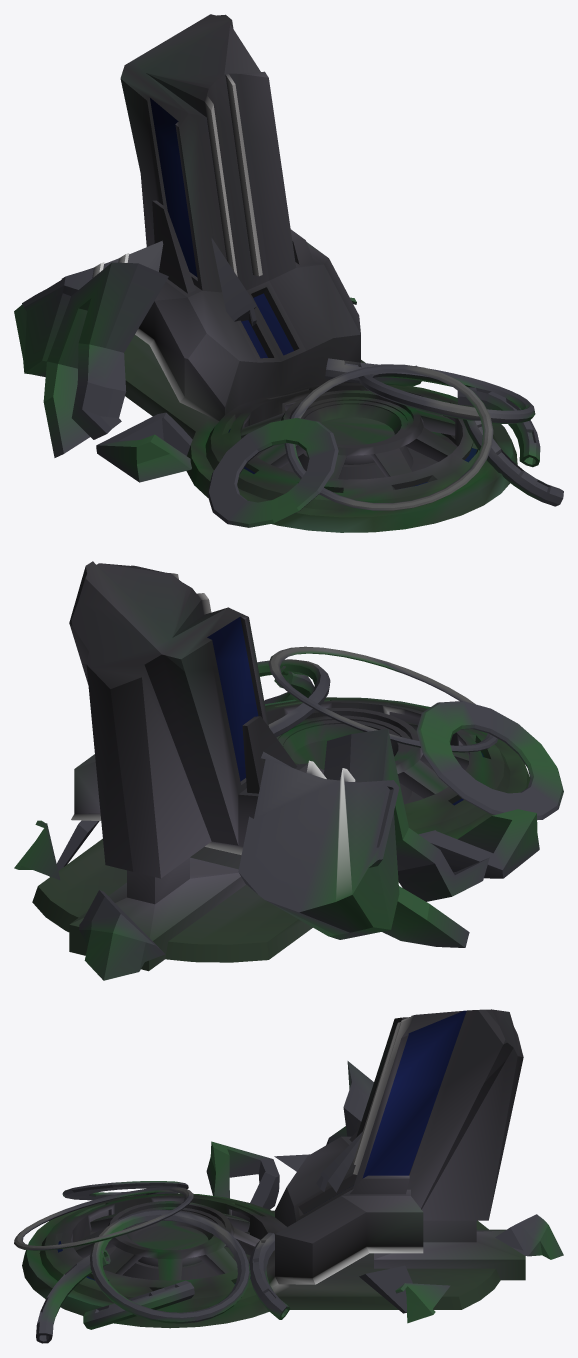
Rendered from Ruine2 (2).fbx.
3 views of the same model, one above another, from view 1: azimuth 30°, elevation 25°; view 2: azimuth 150°, elevation 25°; view 3: azimuth 270°, elevation 25° (orthographic). The views are drawn at different scales.
Parts seen in each view (by area): view 1: Circle, Circle.014; view 2: Circle, Circle.014; view 3: Circle, Circle.014.
Boxes of the visible parts, x1=… form: Circle: x1=120, y1=14, x2=517, y2=532; Circle.014: x1=14, y1=238, x2=563, y2=527; Circle: x1=32, y1=561, x2=530, y2=971; Circle.014: x1=14, y1=646, x2=563, y2=980; Circle: x1=22, y1=1009, x2=525, y2=1328; Circle.014: x1=14, y1=1061, x2=563, y2=1343.
Size of the model in its own units: 775 by 663 by 1113.
